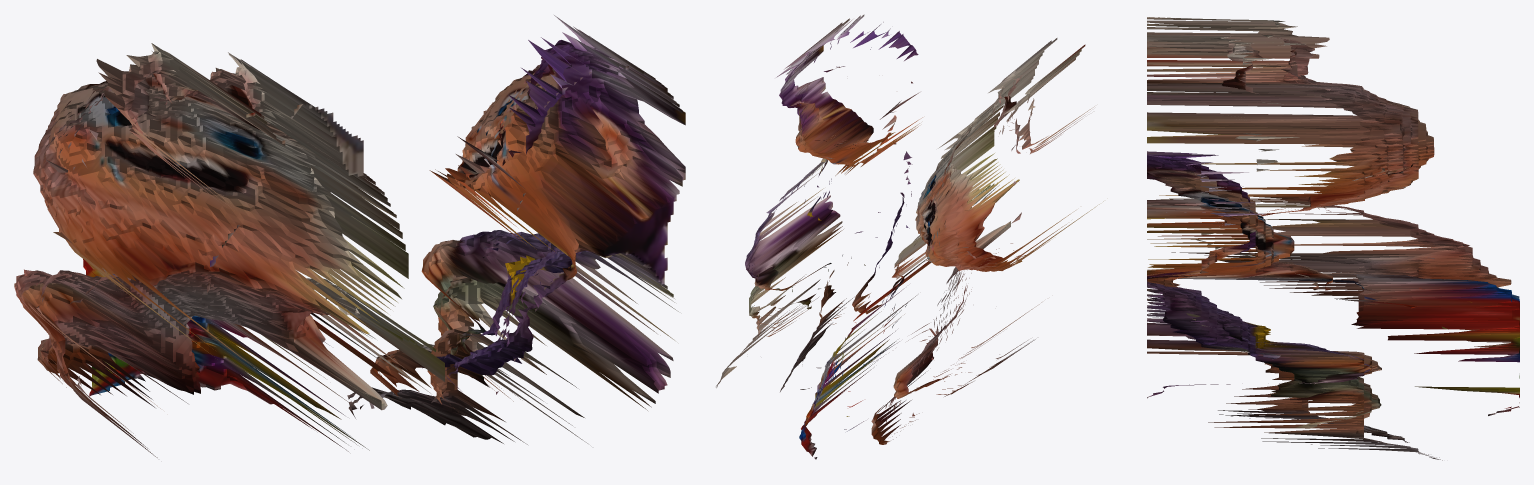
Rendered from frame_00425.glb.
3 renders of one model, left to right at view 1: azimuth 30°, elevation 25°; view 2: azimuth 150°, elevation 25°; view 3: azimuth 270°, elevation 25°, orthographic. The views are drawn at different scales.
Visible parts, largest first — view 1: geometry_0; view 2: geometry_0; view 3: geometry_0.
Boxes of the visible parts, <box> form: geometry_0: <box>14,15,685,457</box>; geometry_0: <box>716,14,1103,459</box>; geometry_0: <box>1147,17,1519,460</box>.
Bounding box in the file's own units: 0.1575 × 0.1626 × 0.16.
1 material, 1 textured.
